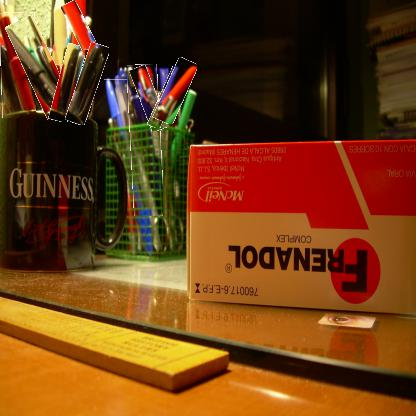Pen: (104, 79, 148, 256), (16, 15, 66, 121), (129, 65, 163, 217), (0, 12, 36, 120), (72, 42, 104, 126), (53, 44, 82, 123), (159, 58, 192, 124), (135, 66, 162, 132), (153, 66, 178, 130), (66, 0, 93, 51)
